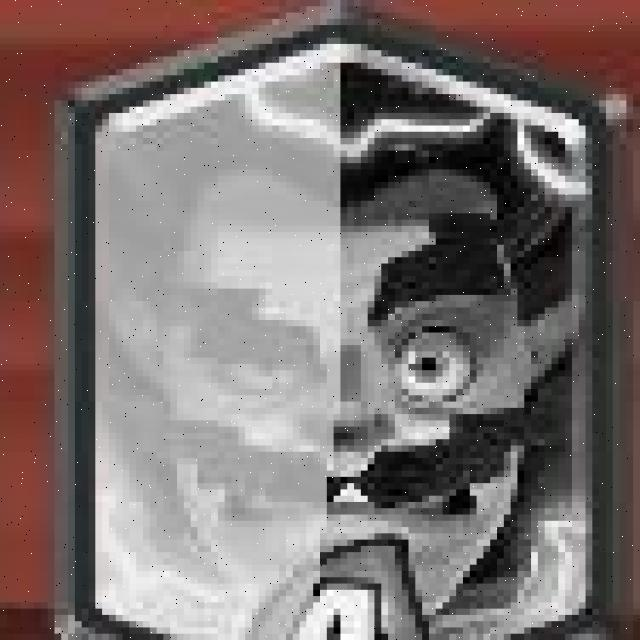Electro_Wizard: (64, 11, 605, 640)
